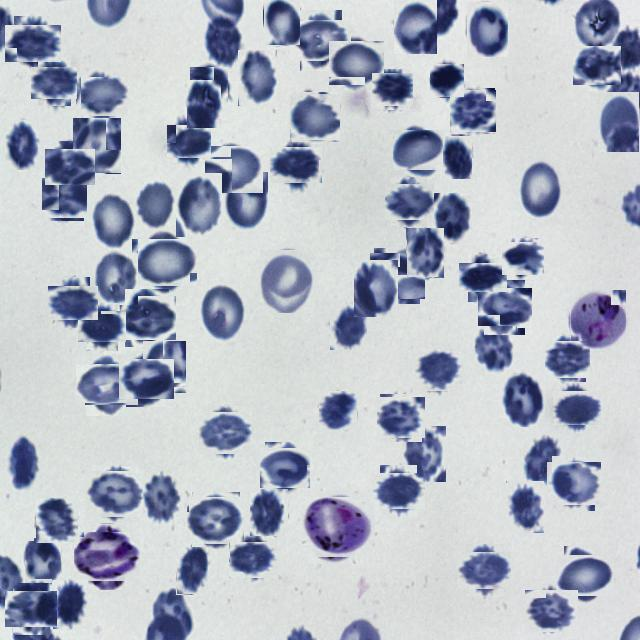difficult: (305, 494, 372, 561)
red blood cell: (260, 250, 314, 313), (137, 234, 193, 290), (176, 173, 222, 237), (72, 118, 121, 174), (190, 494, 242, 546), (208, 144, 260, 196), (90, 468, 142, 520), (81, 359, 133, 411), (200, 284, 246, 342), (295, 15, 347, 66), (121, 292, 172, 343), (372, 250, 422, 302), (519, 160, 563, 219), (224, 172, 268, 230), (402, 426, 447, 482), (354, 260, 398, 317), (560, 550, 610, 600), (331, 38, 381, 88), (598, 92, 639, 152), (502, 371, 546, 426), (549, 459, 598, 508), (292, 92, 340, 142), (142, 341, 186, 394), (394, 0, 437, 54), (201, 409, 249, 457), (527, 587, 575, 635), (122, 355, 170, 403), (94, 253, 138, 305), (467, 2, 508, 57), (9, 21, 56, 68), (482, 284, 528, 332), (238, 50, 277, 106), (397, 126, 442, 174), (473, 326, 518, 374), (79, 74, 125, 120), (462, 548, 508, 594), (262, 444, 308, 490), (520, 435, 562, 485), (451, 88, 496, 134), (378, 395, 424, 440), (9, 586, 54, 632), (376, 469, 421, 514), (506, 481, 544, 534), (91, 197, 132, 246), (136, 180, 176, 230), (204, 15, 244, 65), (418, 349, 462, 394), (274, 143, 318, 187), (48, 144, 92, 188), (575, 44, 619, 88), (35, 499, 79, 543), (6, 434, 39, 492), (143, 473, 182, 522), (434, 193, 472, 243), (406, 228, 444, 278), (42, 177, 86, 220), (388, 180, 430, 223), (52, 281, 94, 324), (4, 120, 40, 170), (52, 580, 88, 630), (250, 489, 288, 536), (556, 386, 598, 428), (546, 338, 588, 380), (232, 538, 274, 580), (330, 304, 367, 350), (24, 538, 61, 584), (263, 0, 300, 46), (187, 80, 221, 128), (82, 307, 122, 347), (463, 258, 502, 298), (318, 392, 358, 431), (176, 547, 208, 595), (169, 122, 208, 161), (34, 64, 74, 102), (374, 70, 412, 108), (504, 240, 542, 278), (191, 67, 228, 103), (442, 136, 472, 180), (430, 64, 464, 98)
trophozoite: (570, 290, 626, 352), (78, 528, 136, 586)
